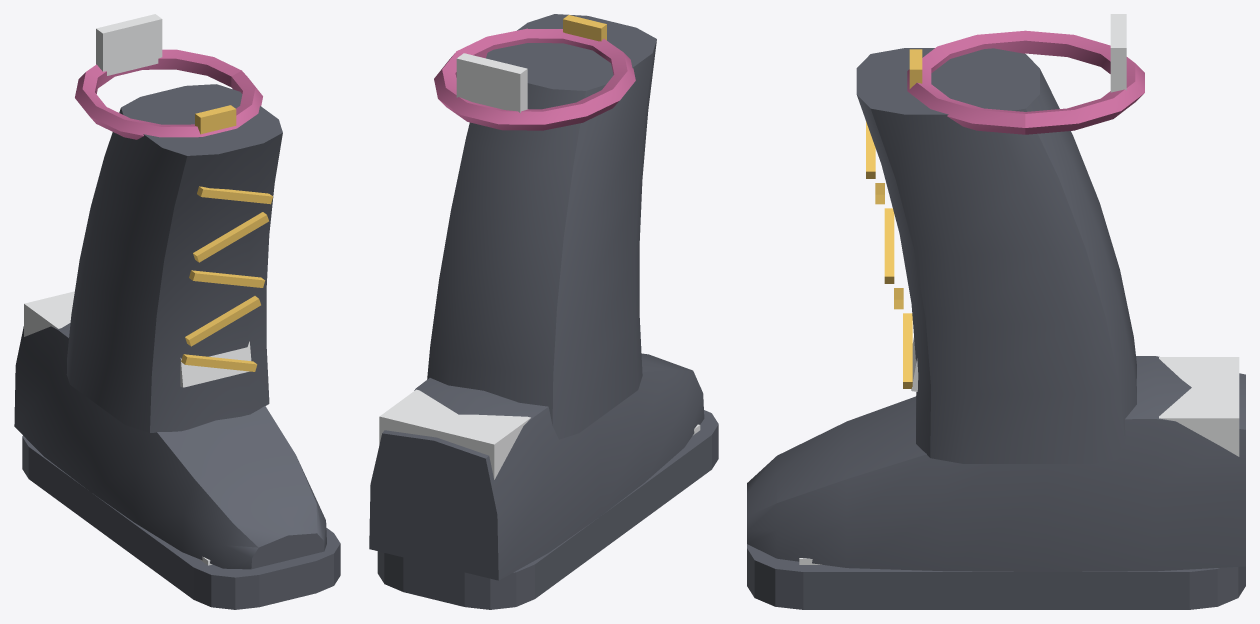
File: snowboard-gear-and-freestyle-riders-soft-boot-3a023b4b__27149.glb
The picture shows the model from 3 angles, left to right: view 1: azimuth 30°, elevation 25°; view 2: azimuth 150°, elevation 25°; view 3: azimuth 270°, elevation 25°; orthographic projection. The views are drawn at different scales.
Parts seen in each view (by area): view 1: soft-boot; view 2: soft-boot; view 3: soft-boot.
Boxes of the visible parts, x1,y1,x2,y2 form: soft-boot: (14,14,340,609); soft-boot: (369,14,718,609); soft-boot: (747,14,1245,609).
Size of the model in its own units: 0.1333 by 0.3695 by 0.31.
